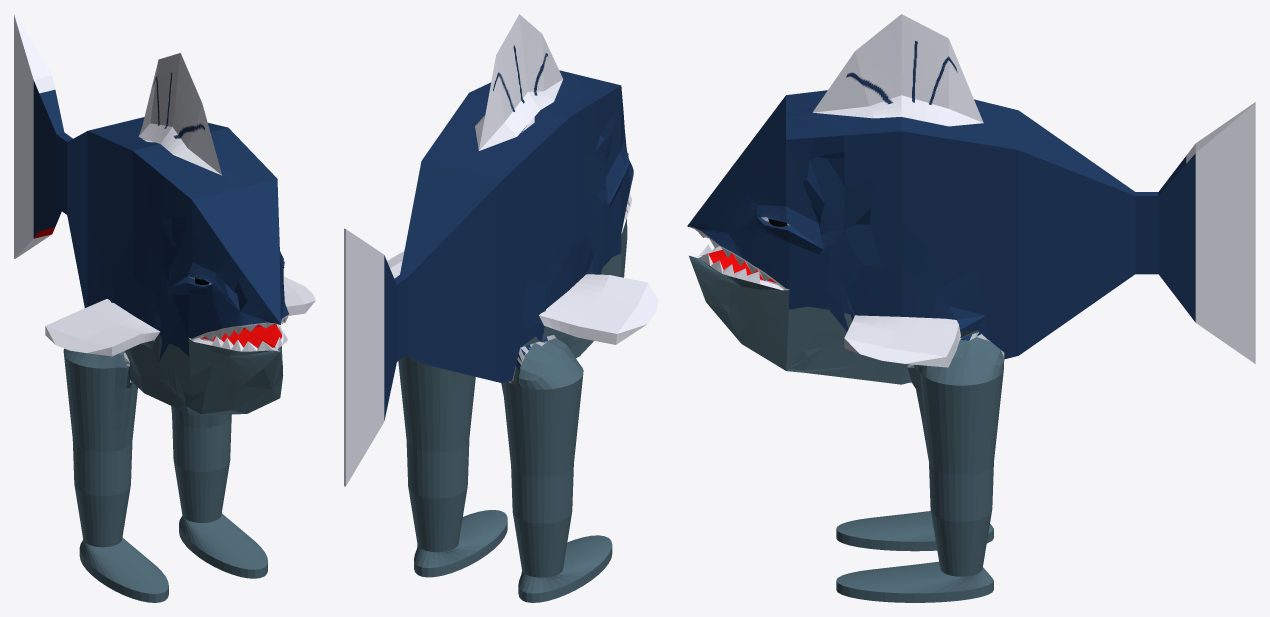
The model's file is sakana_stand.fbx.
The picture shows the model from 3 angles, left to right: view 1: azimuth 30°, elevation 25°; view 2: azimuth 150°, elevation 25°; view 3: azimuth 270°, elevation 25°; orthographic projection. The views are drawn at different scales.
Visible parts, largest first — view 1: 立方体; view 2: 立方体; view 3: 立方体.
Part boxes in pixels (box(x1,y1,x2,y2)): 立方体: box(14, 14, 315, 602); 立方体: box(344, 14, 658, 602); 立方体: box(687, 14, 1255, 602).
Size of the model in its own units: 252 by 496 by 464.
Materials: 1 (1 with a texture image).
